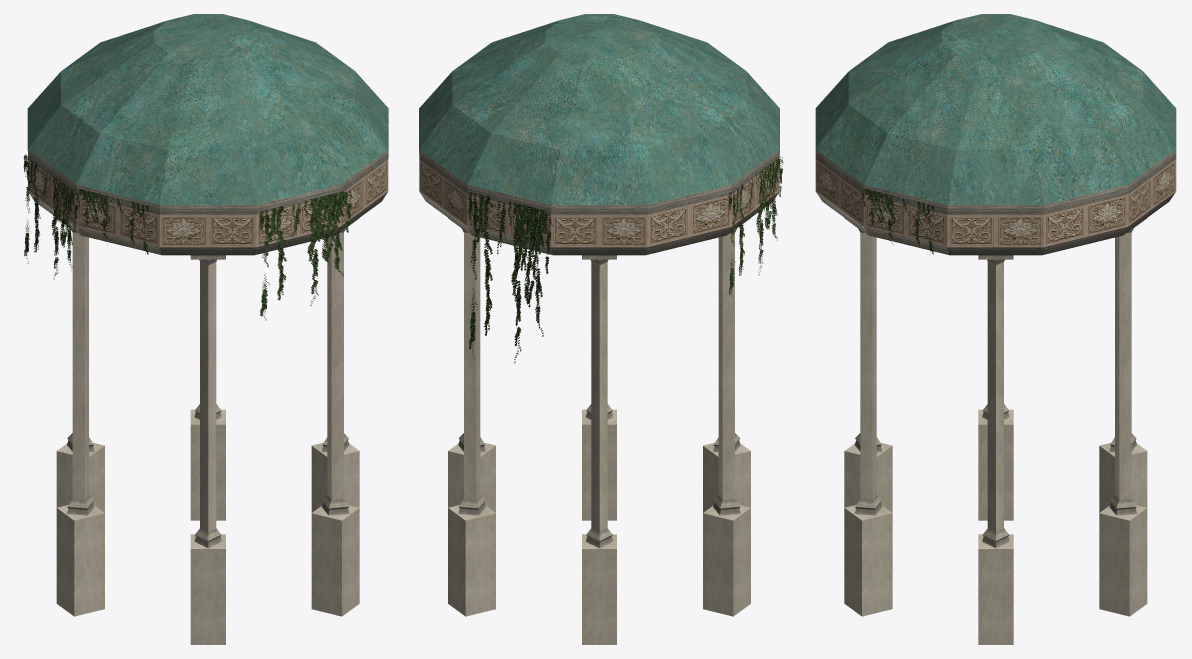
File: thm_nboo_imprv_garden_gazebo_sml_s01_l1.fbx
The picture shows the model from 3 angles, left to right: view 1: azimuth 30°, elevation 25°; view 2: azimuth 150°, elevation 25°; view 3: azimuth 270°, elevation 25°; orthographic projection.
Parts seen in each view (by area): view 1: mesh_node; view 2: mesh_node; view 3: mesh_node.
Boxes of the visible parts, left/top/right/bottom form: mesh_node: left=23, top=14, right=388, bottom=644; mesh_node: left=419, top=14, right=783, bottom=644; mesh_node: left=815, top=14, right=1176, bottom=644.
Size of the model in its own units: 7.58 by 12.47 by 7.56.
